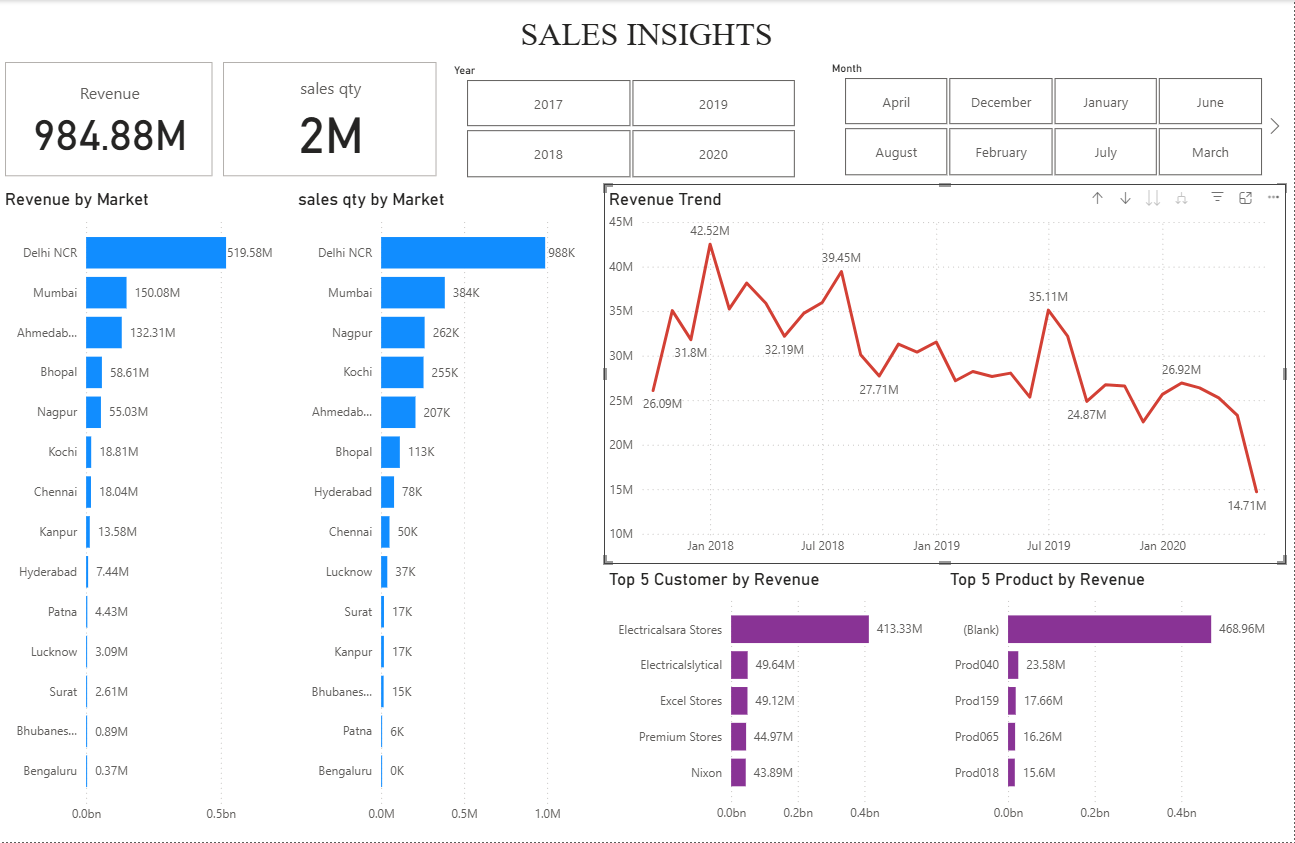

This screenshot's page, from the dashboard's own definition file:
{"tool":"powerbi","page":{"name":"Page 1","canvas":[1290,840],"ordinal":0},"visuals":[{"type":"cardVisual","fields":{"Data":["Base measures.sales qty"]},"box":[217.5,56.9,223.5,124.7],"z":0},{"type":"cardVisual","fields":{"Data":["Base measures.Revenue"]},"box":[0,56.9,217.5,124.7],"z":1000},{"type":"clusteredBarChart","title":"Revenue by Market","fields":{"Category":["sales markets.markets_name"],"Y":["Base measures.Revenue"]},"box":[0,183.6,292.3,647.5],"z":2000},{"type":"clusteredBarChart","title":"sales qty by Market","fields":{"Y":["Base measures.sales qty"],"Category":["sales markets.markets_name"]},"box":[292.3,183.6,300.3,647.5],"z":3000},{"type":"slicer","fields":{"Values":["sales date.year"]},"box":[440,58.9,377.1,124.7],"z":4000},{"type":"slicer","fields":{"Values":["sales date.month_name"]},"box":[817.1,56.9,465.9,124.7],"z":5000},{"type":"clusteredBarChart","title":"Top 5 Customer by Revenue","fields":{"Y":["Base measures.Revenue"],"Category":["sales customers.custmer_name"]},"box":[602.6,562.7,340.2,266.4],"z":6000},{"type":"textbox","box":[479.9,11,330.2,47.9],"z":7000},{"type":"clusteredBarChart","title":"Top 5 Product by Revenue","fields":{"Y":["Base measures.Revenue"],"Category":["sales products.product_code"]},"box":[942.8,562.7,340.2,266.4],"z":8000},{"type":"lineChart","title":"Revenue Trend","fields":{"Category":["sales date.cy_date.Variation.Date Hierarchy.Year","sales date.cy_date.Variation.Date Hierarchy.Quarter","sales date.cy_date.Variation.Date Hierarchy.Month","sales date.cy_date.Variation.Date Hierarchy.Day"],"Y":["Base measures.Revenue"]},"box":[602.6,183.6,680.4,379.1],"z":9000}]}

Visuals, with their boxes in screenshot pixels (x1, y1, x2, y2), scaled from the page's 1290x840 canvas onto the 1295x843 screenshot:
cardVisual - Base measures.sales qty: <bbox>218, 57, 443, 182</bbox>
cardVisual - Base measures.Revenue: <bbox>0, 57, 218, 182</bbox>
"Revenue by Market" clusteredBarChart: <bbox>0, 184, 293, 834</bbox>
"sales qty by Market" clusteredBarChart: <bbox>293, 184, 595, 834</bbox>
slicer - sales date.year: <bbox>442, 59, 820, 184</bbox>
slicer - sales date.month_name: <bbox>820, 57, 1288, 182</bbox>
"Top 5 Customer by Revenue" clusteredBarChart: <bbox>605, 565, 946, 832</bbox>
textbox: <bbox>482, 11, 813, 59</bbox>
"Top 5 Product by Revenue" clusteredBarChart: <bbox>946, 565, 1288, 832</bbox>
"Revenue Trend" lineChart: <bbox>605, 184, 1288, 565</bbox>
